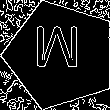M_S: (37, 30, 85, 80)
